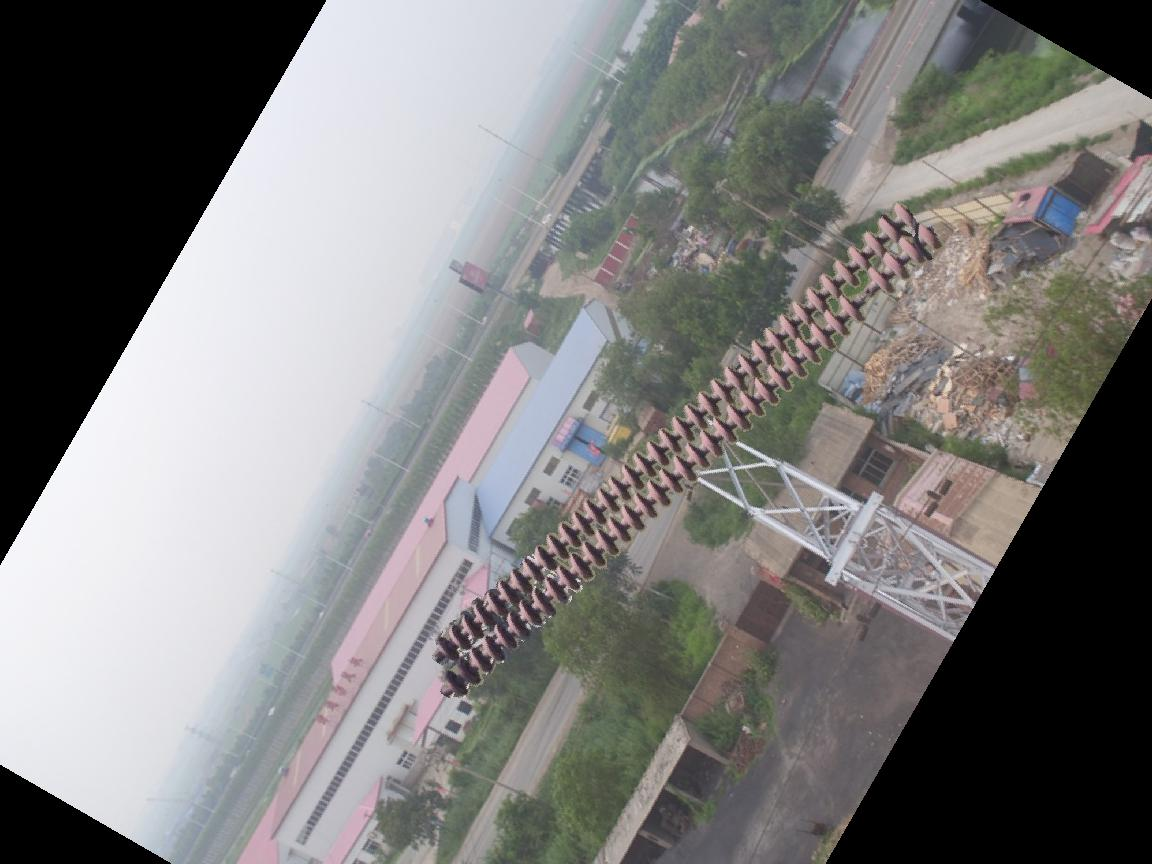insulator: (430, 195, 944, 698)
insulator_stringdrop: (836, 266, 894, 325)
